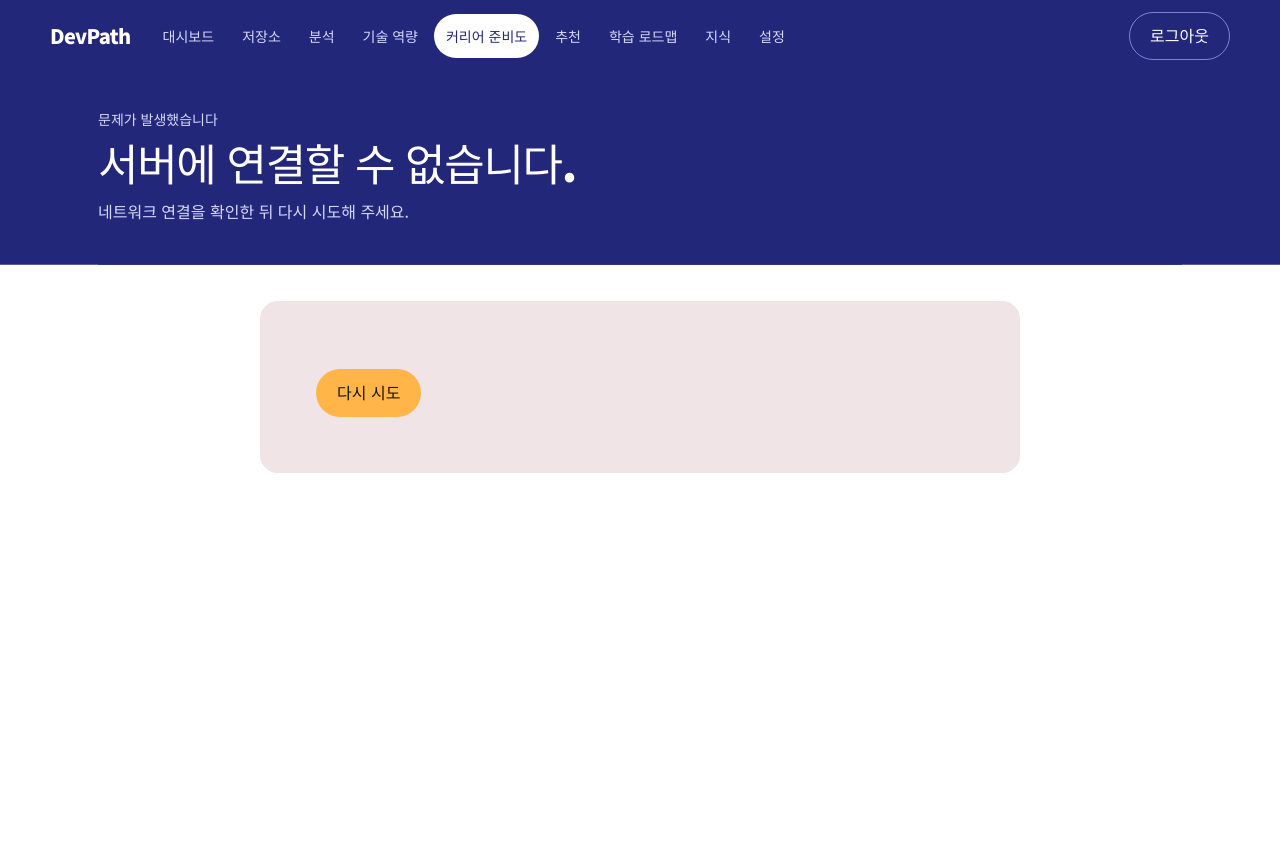
Test: CareerReadinessPage › uses the shared network failure state and recovers on retry
The image size is (1280, 868).
Expected: the heading "서버에 연결할 수 없습니다." is shown, [98,130,576,194]
Click the button "다시 시도" at (369,393), box [316,369,421,417]
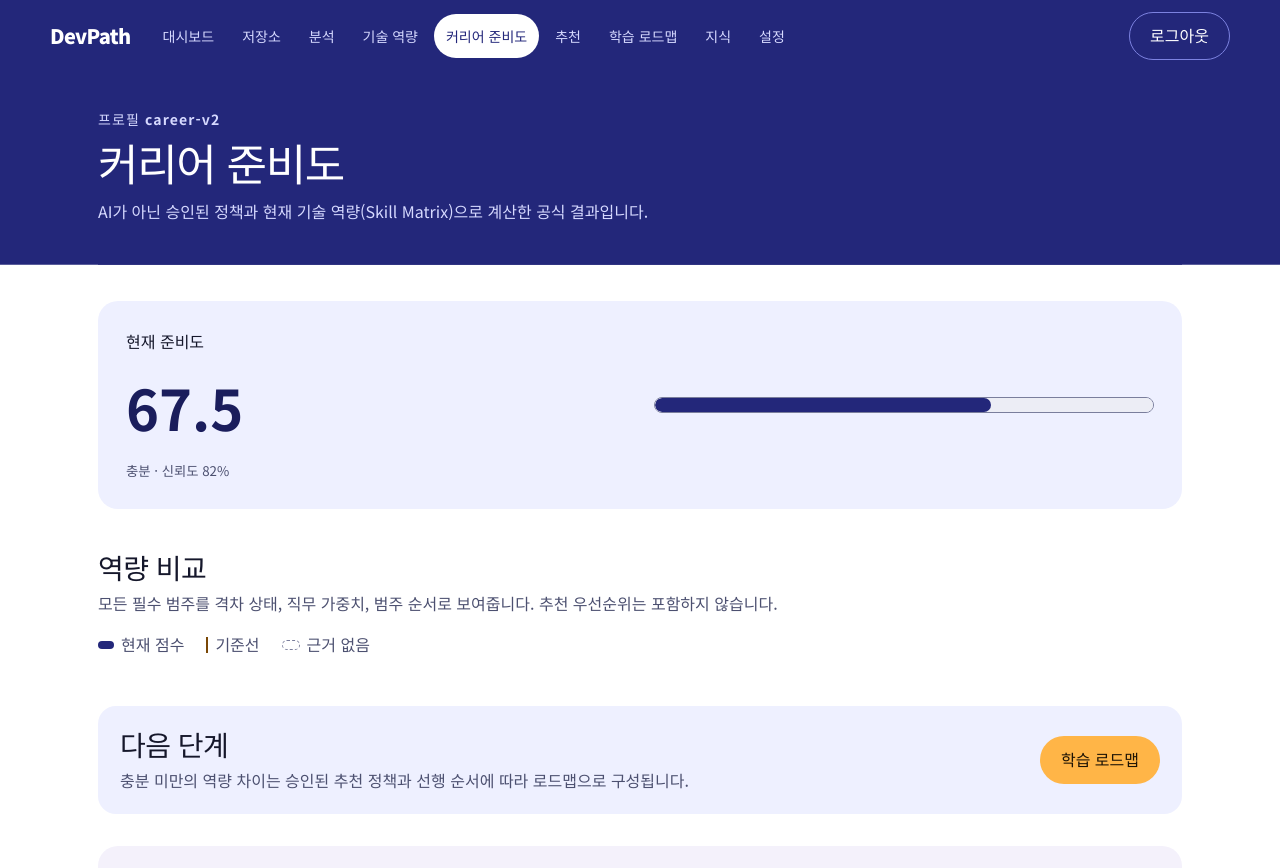
Result: the text "67.5" is shown at [126,366,243,447]
